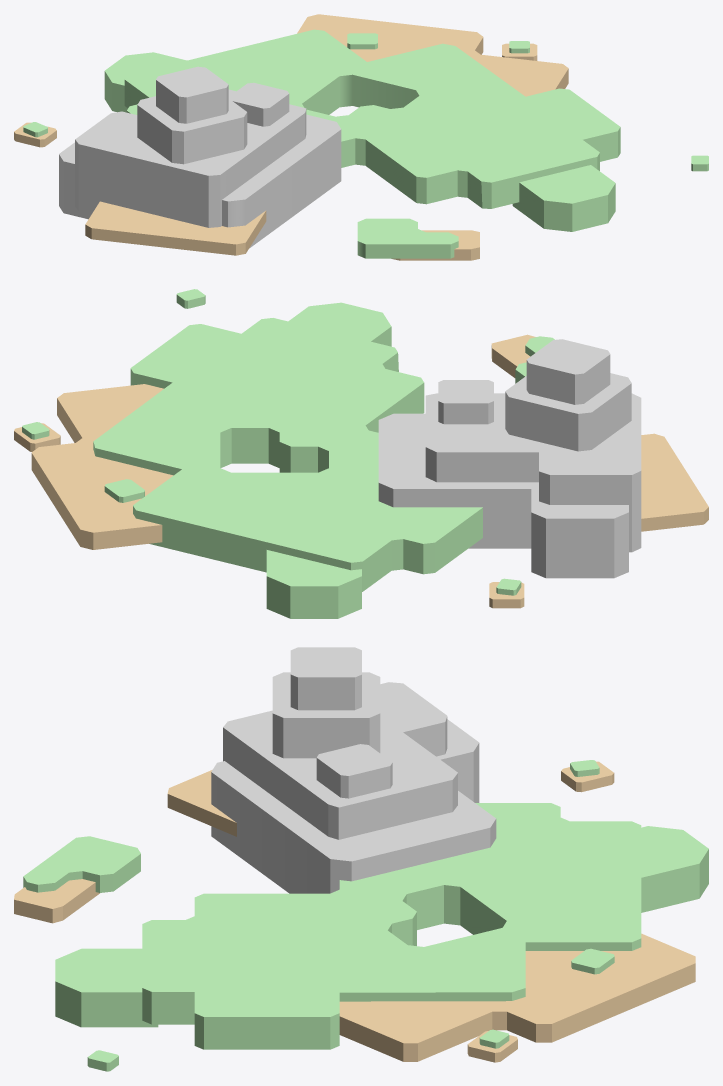
The model's file is SM_Island.fbx.
3 views of the same model, one above another, from view 1: azimuth 30°, elevation 25°; view 2: azimuth 150°, elevation 25°; view 3: azimuth 270°, elevation 25° (orthographic). The views are drawn at different scales.
Visible parts, largest first — view 1: SM_Land, SM_Mountain, SM_Beaches1; view 2: SM_Land, SM_Mountain, SM_Beaches1; view 3: SM_Land, SM_Mountain, SM_Beaches1.
Boxes of the visible parts, box(x1,y1,x2,y2) form: SM_Land: box(23, 29, 708, 258); SM_Mountain: box(59, 66, 341, 248); SM_Beaches1: box(14, 14, 568, 260); SM_Land: box(22, 289, 554, 618); SM_Mountain: box(378, 339, 641, 578); SM_Beaches1: box(14, 334, 708, 608); SM_Land: box(23, 760, 708, 1071); SM_Mountain: box(211, 647, 496, 893); SM_Beaches1: box(14, 761, 695, 1062).
Size of the model in its own units: 4603 by 1115 by 4134.
